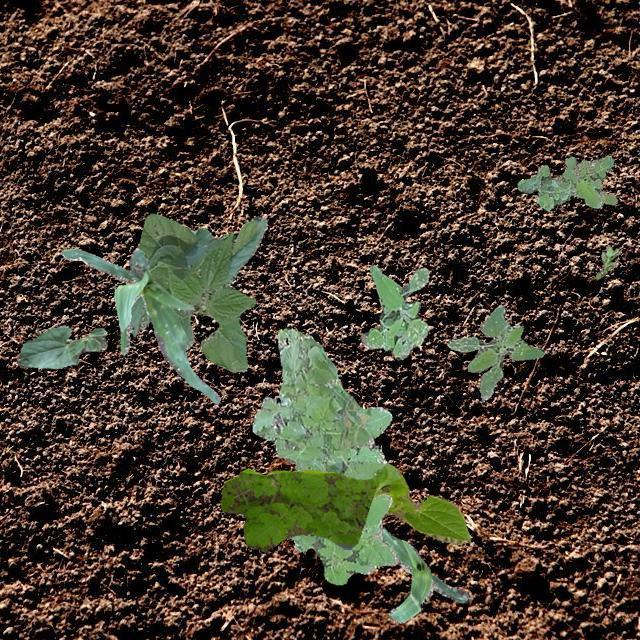crop: (59, 248, 220, 402), (128, 212, 266, 372), (381, 528, 469, 622), (370, 462, 470, 544), (15, 324, 106, 368)
weed: (252, 328, 398, 584), (220, 468, 374, 550), (446, 304, 544, 398), (360, 264, 428, 358), (516, 154, 616, 210), (594, 246, 618, 278)
